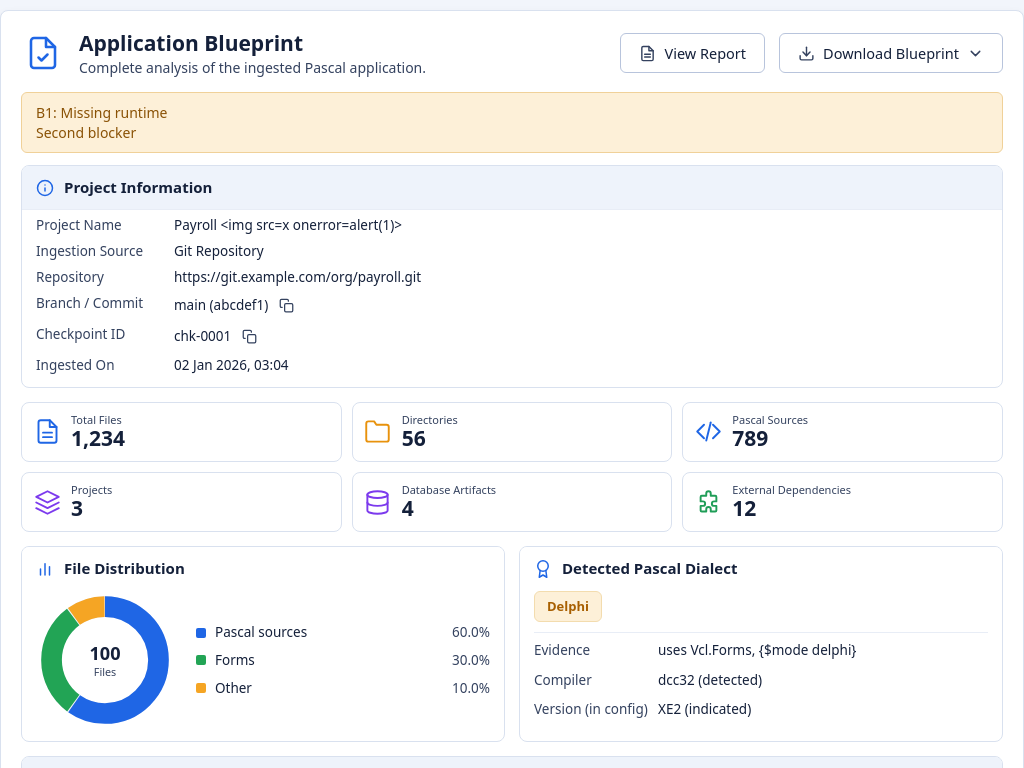
Test case: BlueprintView › builds the View Report link and all nine download links
Click the button "Download Blueprint" at (891, 54), box [779,34,1003,74]
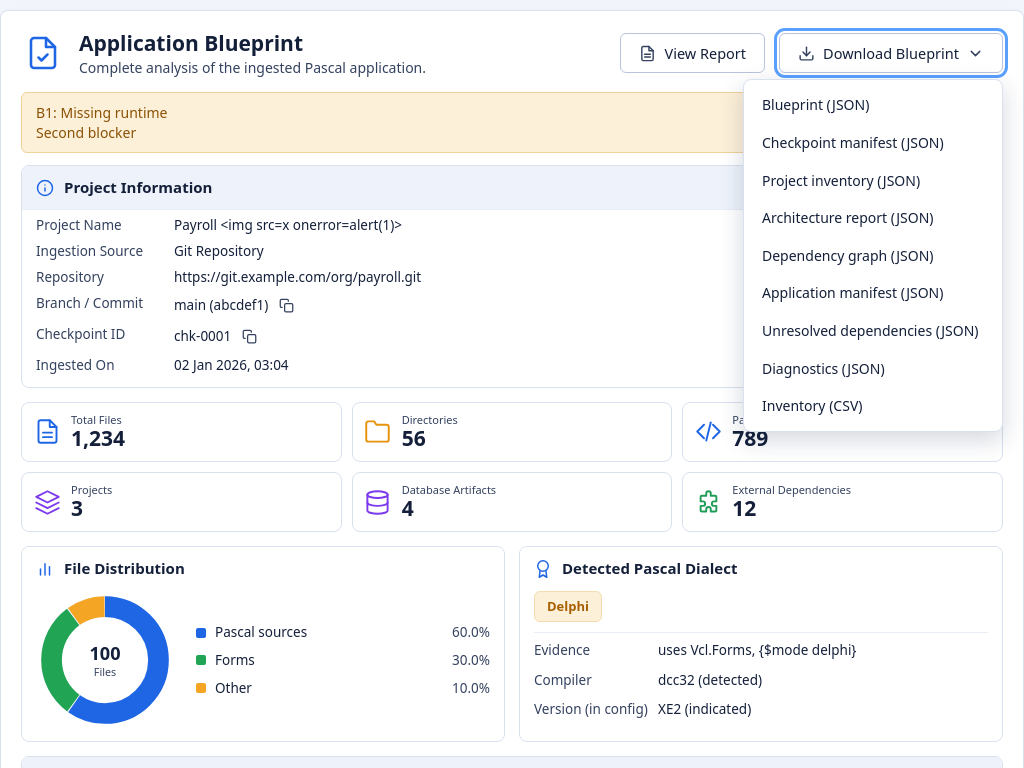
Expected: the link "Inventory (CSV)" is shown, [762,396,862,415]
